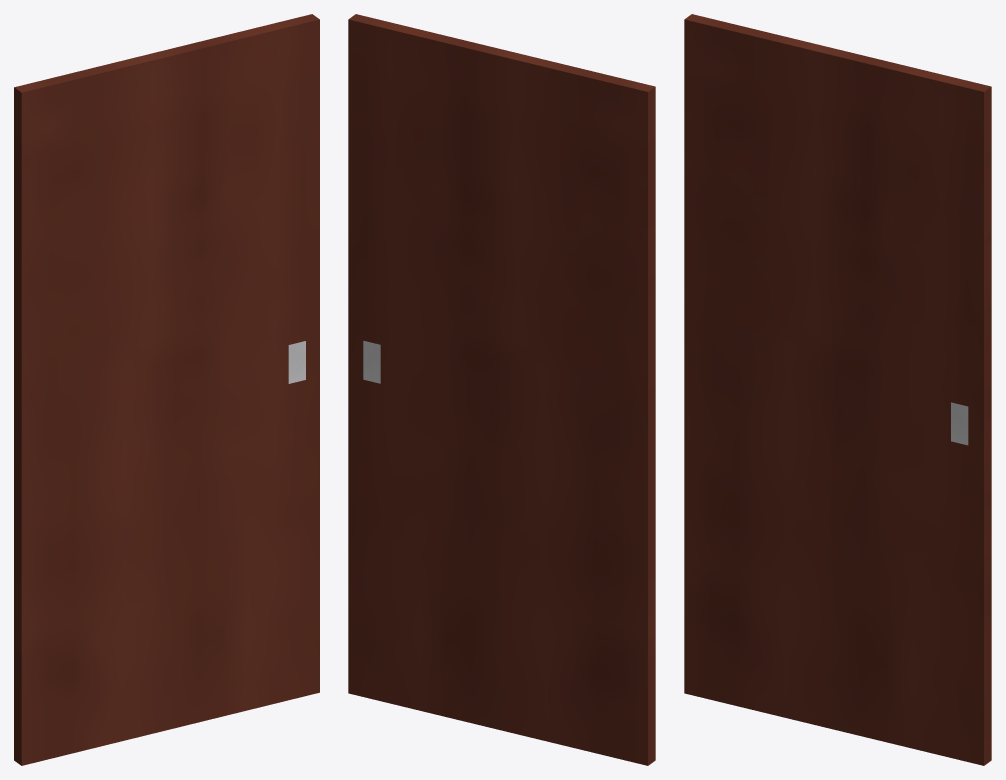
The model's file is Puerta.fbx.
The picture shows the model from 3 angles, left to right: view 1: azimuth 30°, elevation 25°; view 2: azimuth 150°, elevation 25°; view 3: azimuth 330°, elevation 25°; orthographic projection.
Parts seen in each view (by area): view 1: Puerta habitacion; view 2: Puerta habitacion; view 3: Puerta habitacion.
Boxes of the visible parts, left/top/right/bottom form: Puerta habitacion: left=14, top=14, right=319, bottom=765; Puerta habitacion: left=348, top=14, right=655, bottom=765; Puerta habitacion: left=684, top=14, right=991, bottom=765.
Size of the model in its own units: 110 by 238 by 5.43.
